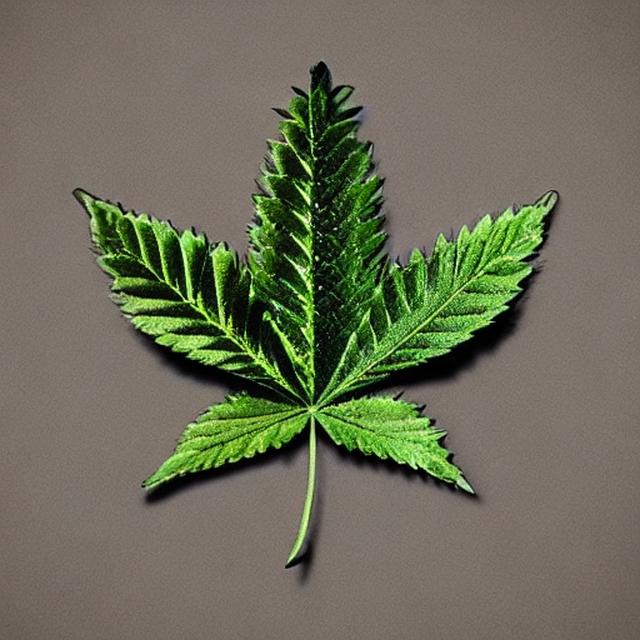Marijuana Leaf: (69, 58, 560, 567)
